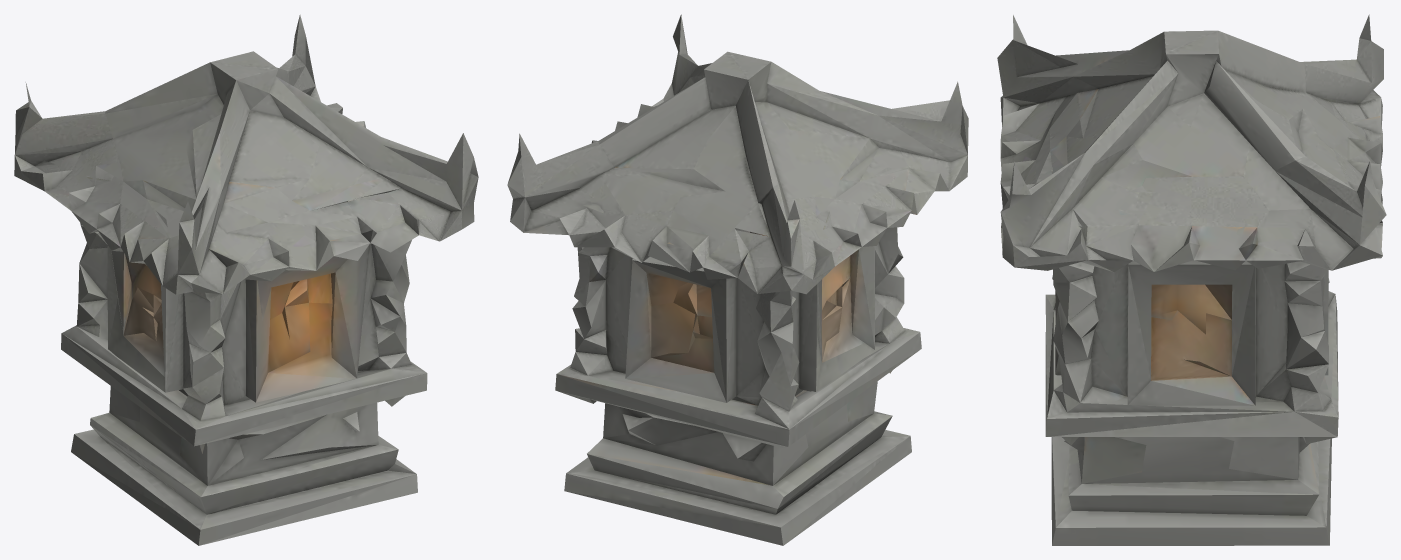
File: lantern.glb
3 renders of one model, left to right at view 1: azimuth 30°, elevation 25°; view 2: azimuth 150°, elevation 25°; view 3: azimuth 270°, elevation 25°, orthographic. The views are drawn at different scales.
Bounding box in the file's own units: 1.44 × 1.88 × 1.49.
Materials: 1 (1 with a texture image).
